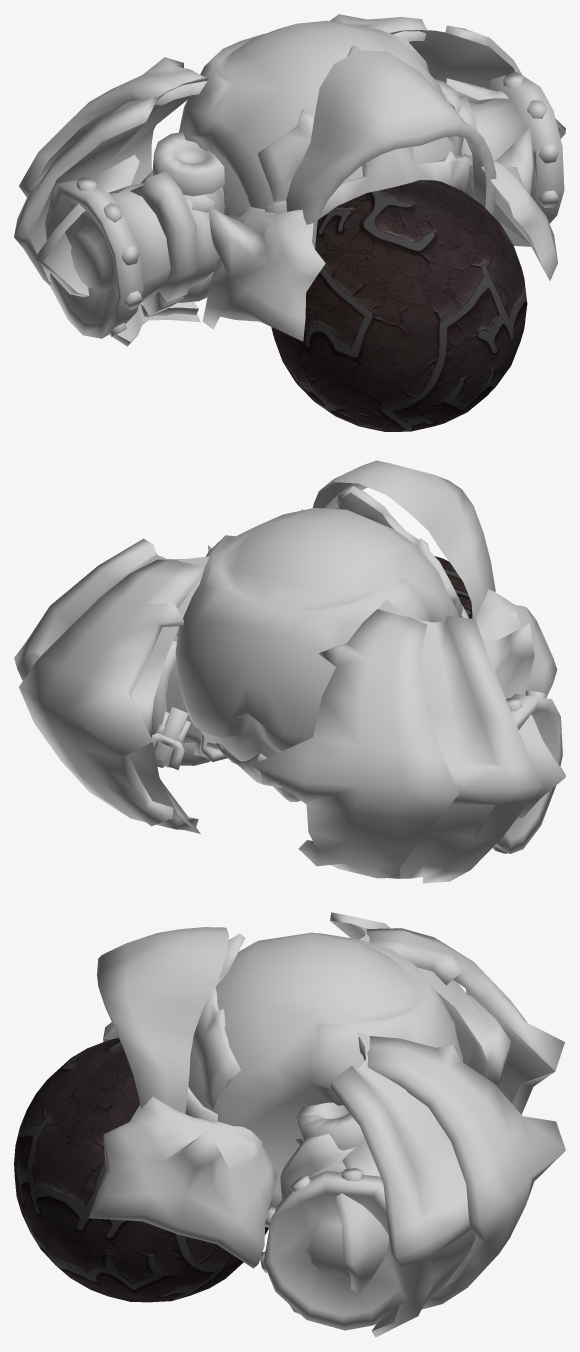
The picture shows the model from 3 angles, top to bottom: view 1: azimuth 30°, elevation 25°; view 2: azimuth 150°, elevation 25°; view 3: azimuth 270°, elevation 25°; orthographic projection. The views are drawn at different scales.
Visible parts, largest first — view 1: ironreaver01; view 2: ironreaver01; view 3: ironreaver01.
Boxes of the visible parts, left/top/right/bottom form: ironreaver01: left=14, top=14, right=565, bottom=431; ironreaver01: left=14, top=460, right=565, bottom=883; ironreaver01: left=14, top=912, right=565, bottom=1337.
Size of the model in its own units: 1.55 by 0.9535 by 1.34.
